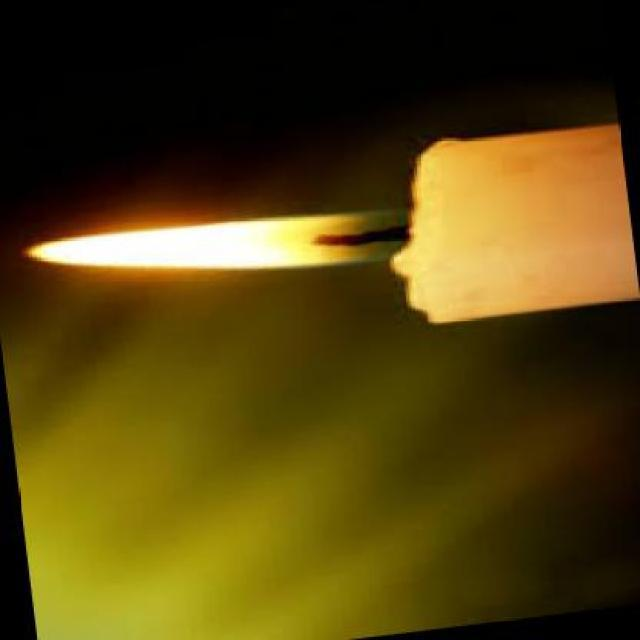Fire: (19, 212, 422, 273)
